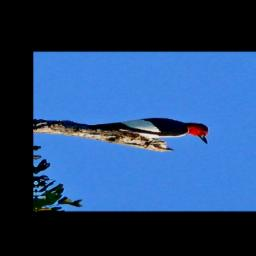Woodpecker: (62, 111, 219, 148)
